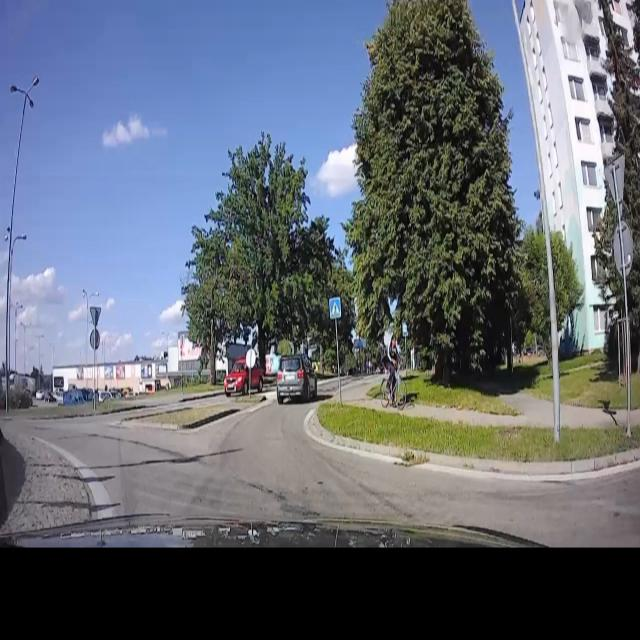Pedestrian crosswalk: (328, 295, 343, 322)
